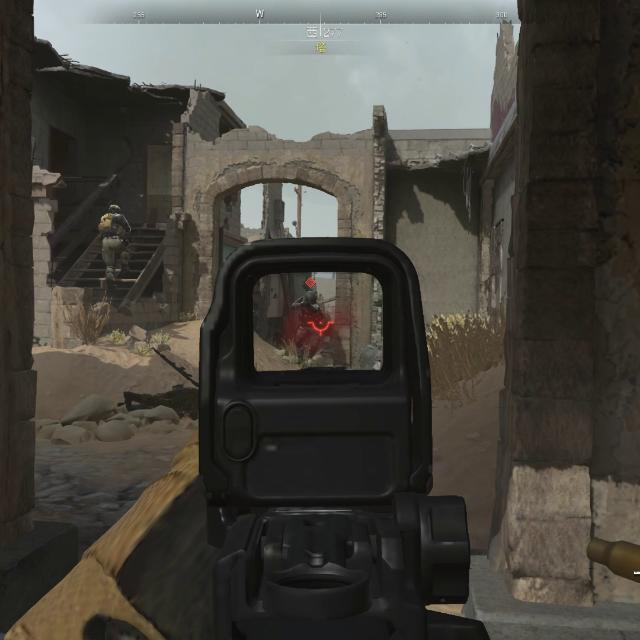MW2_body: (99, 204, 129, 295), (293, 277, 323, 363)
